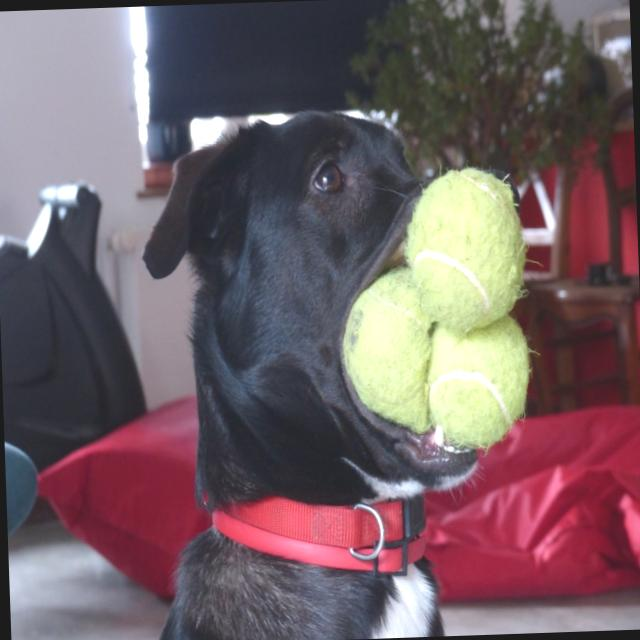Tennis Ball: (402, 162, 532, 339), (338, 263, 440, 437), (423, 311, 537, 451)
